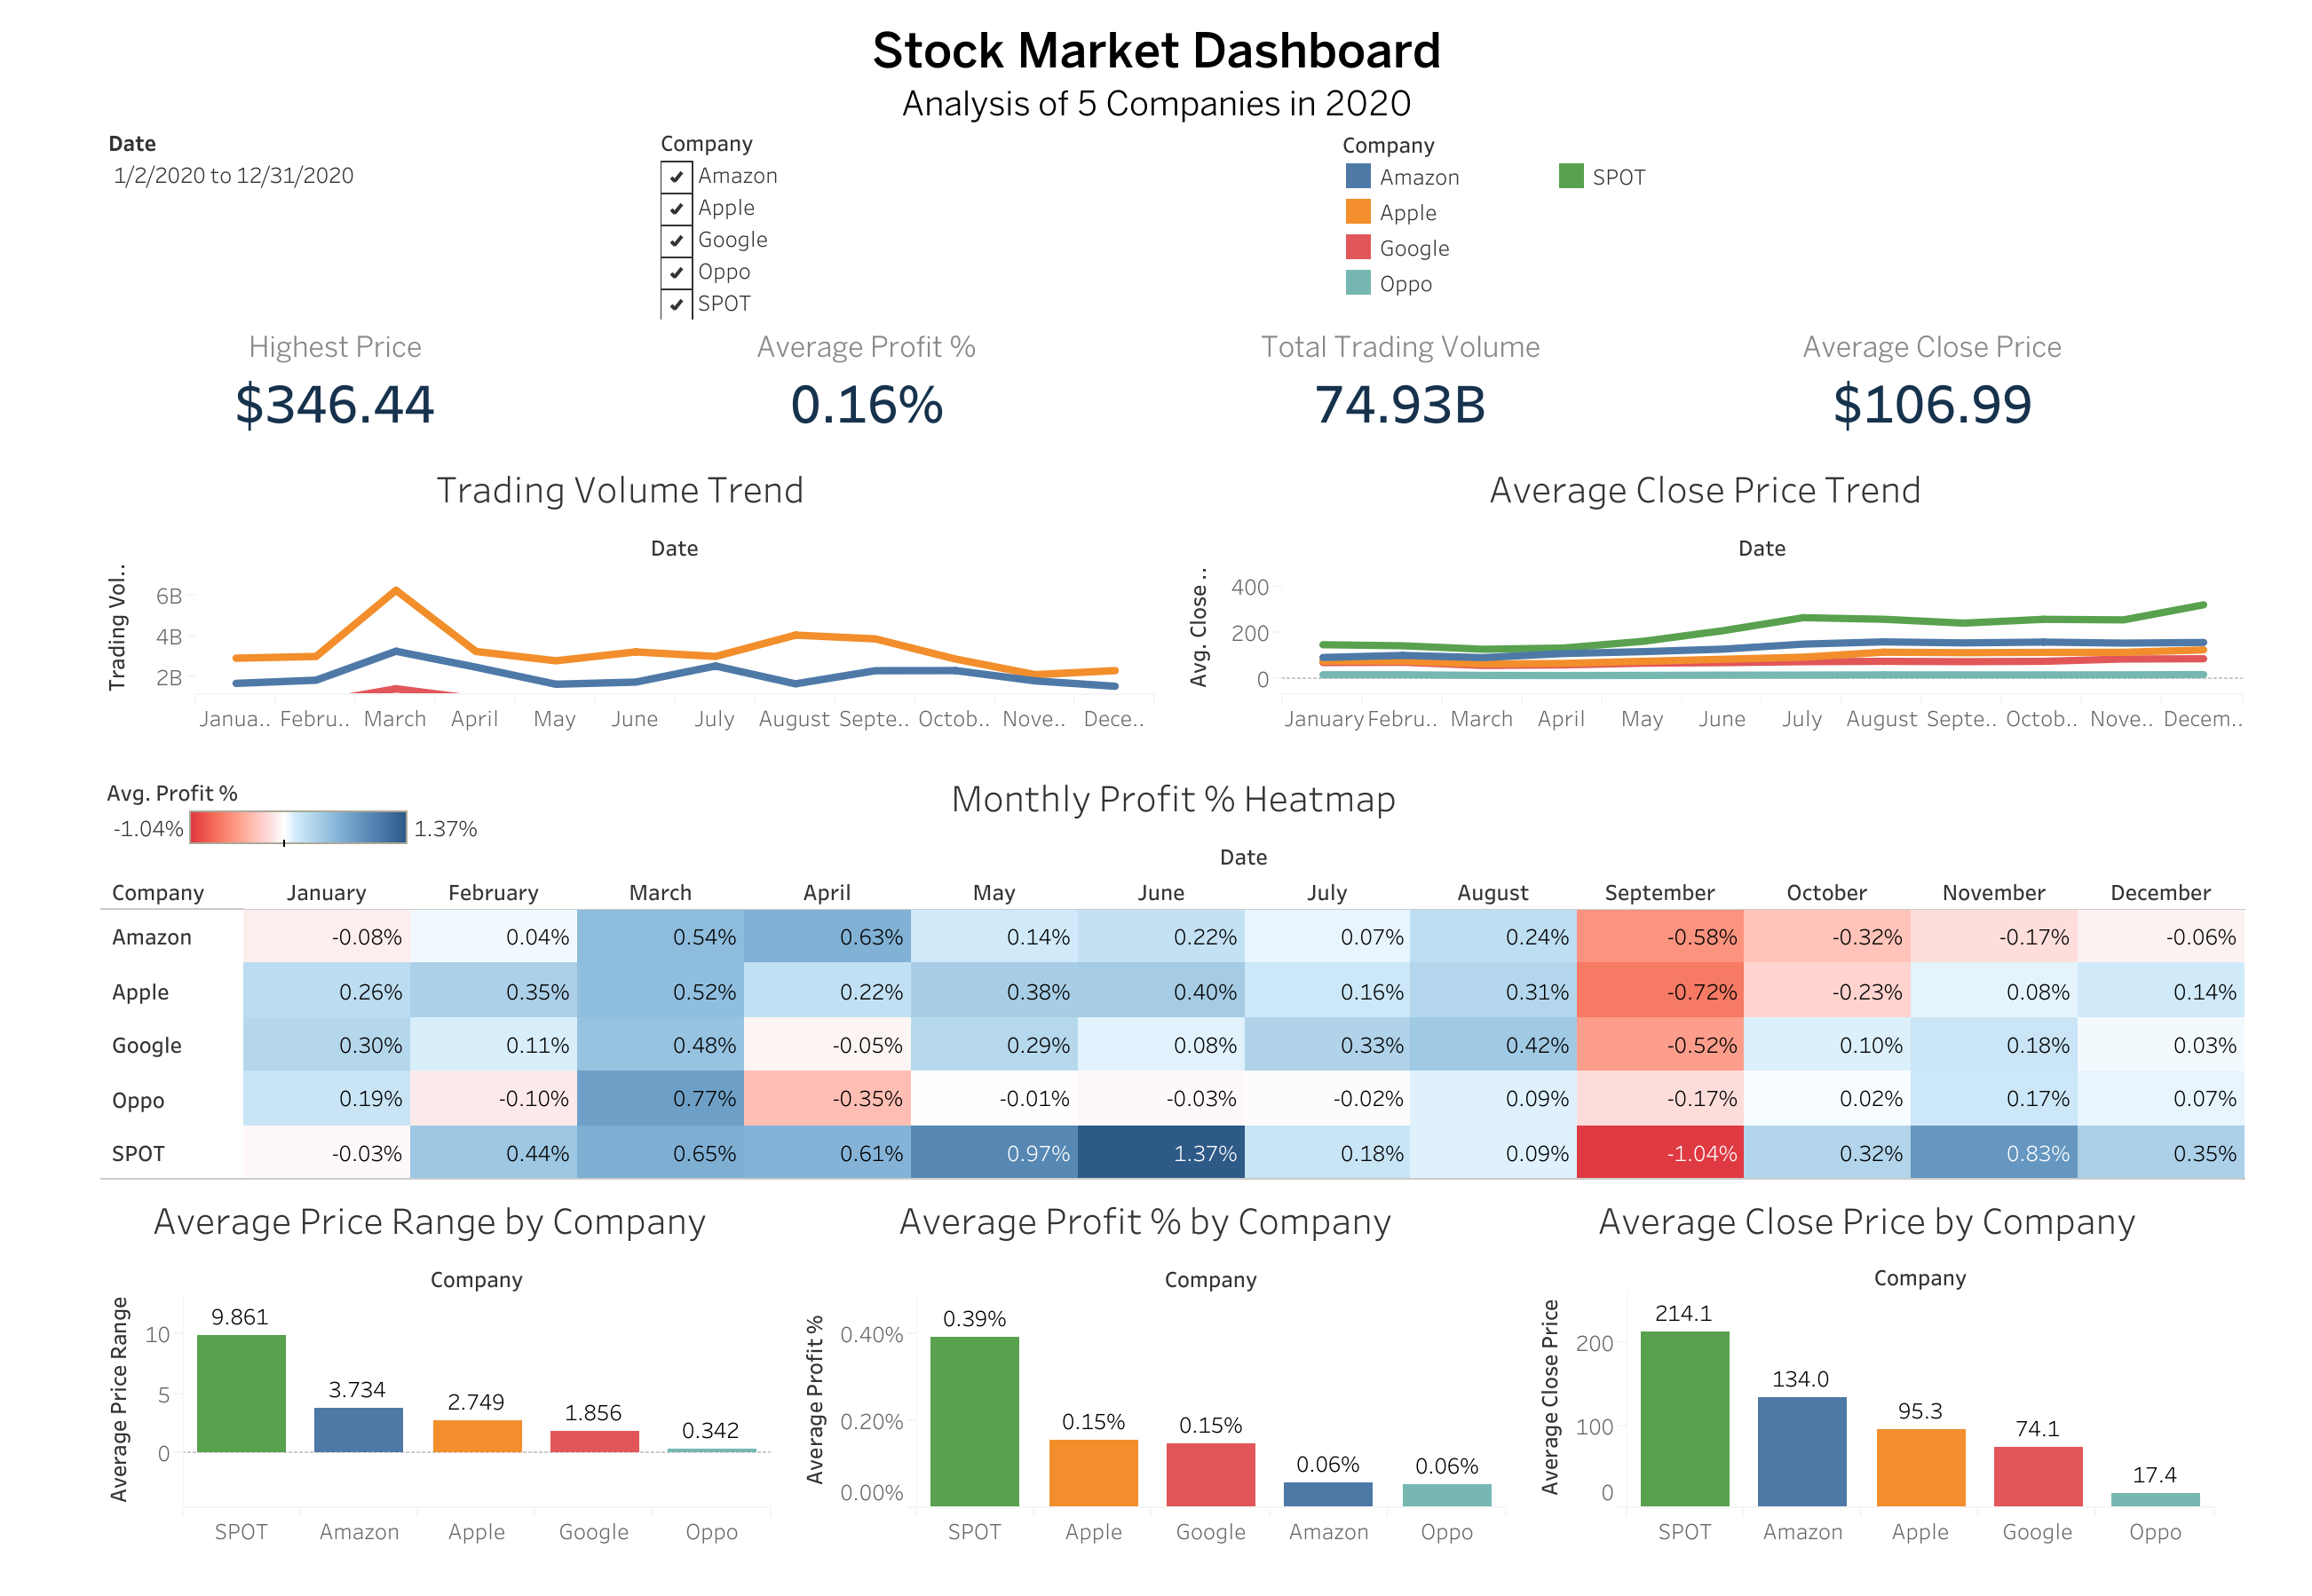

The dashboard page shown, as its layout file describes it:
{"tool":"tableau","page":{"name":"Stock Market Dashboard","canvas":[1000,1000],"units":"permille","ordinal":0},"visuals":[{"type":"title","box":[7.3,8.9,985.5,72.2]},{"type":"filter","title":"Average Close Price Trend","param":"[federated.07ypmje0jgtlil11m8hlb1b7juzq].[none:Date:qk]","box":[43.8,73.2,115.9,130.9]},{"type":"filter","title":"Average Close Price Trend","param":"[federated.07ypmje0jgtlil11m8hlb1b7juzq].[none:Company:nk]","box":[159.6,73.2,347.6,130.9]},{"type":"legend","title":"Average Close Price Trend","param":"[federated.07ypmje0jgtlil11m8hlb1b7juzq].[none:Company:nk]","box":[507.2,73.2,448.3,130.9]},{"type":"worksheet","title":"KPI - Highest Price","mark":"Automatic","box":[29.7,195.3,230.3,86.9]},{"type":"worksheet","title":"KPI - Average Profit %","mark":"Automatic","box":[260,195.3,230.3,86.9]},{"type":"worksheet","title":"KPI - Total Trading Volume","mark":"Automatic","box":[490.2,195.3,230.3,86.9]},{"type":"worksheet","title":"KPI - Average Close Price","mark":"Automatic","box":[720.5,195.3,230.3,86.9]},{"type":"worksheet","title":"Trading Volume Trend","mark":"Automatic","rows":["Volume"],"cols":["Date"],"box":[34.4,279.3,469.6,193.4]},{"type":"worksheet","title":"Average Close Price Trend","mark":"Automatic","rows":["Close"],"cols":["Date"],"box":[504,279.3,468.7,193.4]},{"type":"worksheet","title":"Monthly Profit % Heatmap","mark":"Square","rows":["Company"],"cols":["Date"],"box":[43.8,476.6,927.3,262.7]},{"type":"legend","title":"Monthly Profit % Heatmap","param":"[federated.07ypmje0jgtlil11m8hlb1b7juzq].[avg:Calculation_0642973579087872:qk]","box":[46.1,481.4,164.1,52.7]},{"type":"worksheet","title":"Average Price Range by Company","mark":"Bar","rows":["Calculation_0642973580877825"],"cols":["Company"],"box":[35.2,736.3,299.9,235.3]},{"type":"worksheet","title":"Average Profit % by Company","mark":"Bar","rows":["Calculation_0642973579087872"],"cols":["Company"],"box":[335,736.3,318.9,235.3]},{"type":"worksheet","title":"Average Close Price by Company","mark":"Bar","rows":["Close"],"cols":["Company"],"box":[653.9,736.3,306.2,235.3]}]}

Visuals, with their boxes on the dashboard's canvas, which has no fixed pixel size, in thousandths of its width and height (x1, y1, x2, y2). These are canvas units, not pixel positions in the 2312x1596 screenshot, which may show the page scaled, cropped or inside an application window:
title: detection(7, 9, 993, 81)
"Average Close Price Trend" filter: detection(44, 73, 160, 204)
"Average Close Price Trend" filter: detection(160, 73, 507, 204)
"Average Close Price Trend" legend: detection(507, 73, 956, 204)
"KPI - Highest Price" worksheet: detection(30, 195, 260, 282)
"KPI - Average Profit %" worksheet: detection(260, 195, 490, 282)
"KPI - Total Trading Volume" worksheet: detection(490, 195, 720, 282)
"KPI - Average Close Price" worksheet: detection(720, 195, 951, 282)
"Trading Volume Trend" worksheet: detection(34, 279, 504, 473)
"Average Close Price Trend" worksheet: detection(504, 279, 973, 473)
"Monthly Profit % Heatmap" worksheet (Square marks): detection(44, 477, 971, 739)
"Monthly Profit % Heatmap" legend: detection(46, 481, 210, 534)
"Average Price Range by Company" worksheet (Bar marks): detection(35, 736, 335, 972)
"Average Profit % by Company" worksheet (Bar marks): detection(335, 736, 654, 972)
"Average Close Price by Company" worksheet (Bar marks): detection(654, 736, 960, 972)
